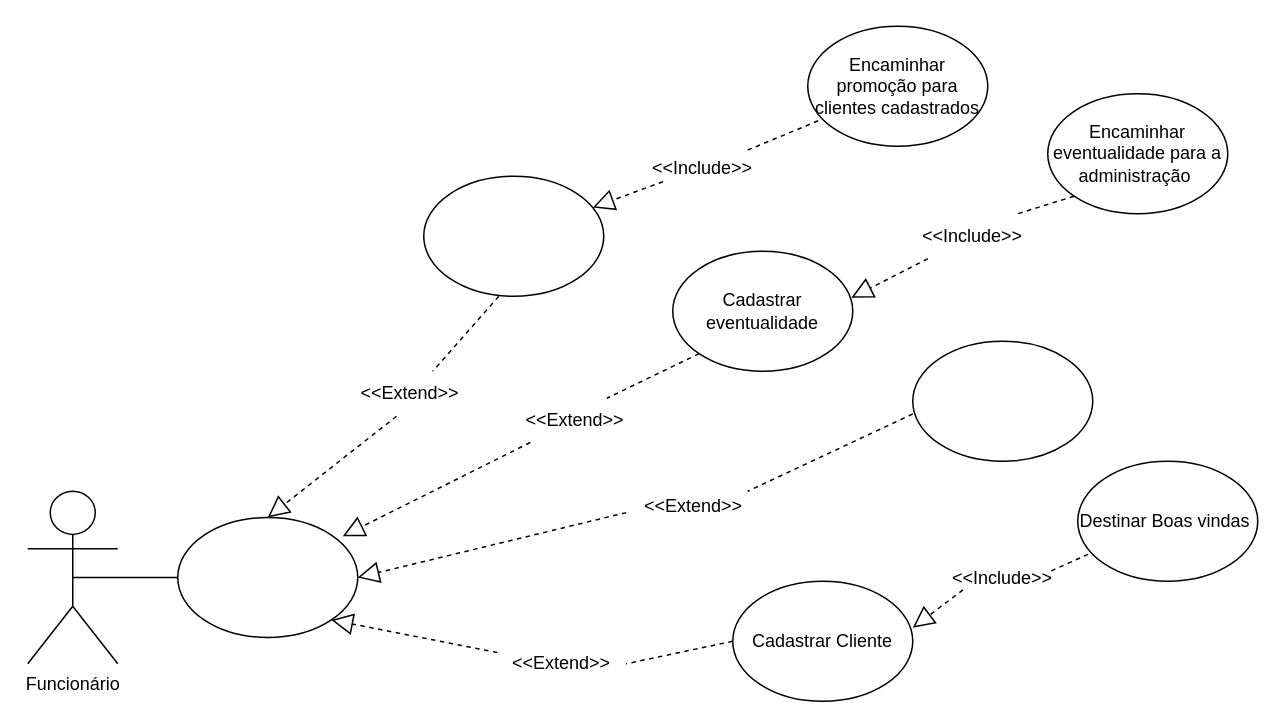
The diagram is 1284 pixels wide and 728 high, and some of its shapes have lost their labels. The shapes that lost their labels are listed below. From the top down, each one's centre as x and y in pixels, then its label:
At [513,235]: "Cadastrar Promoção".
At [1002,400]: "Cadastrar Produtos".
At [267,577]: "Fazer login".
